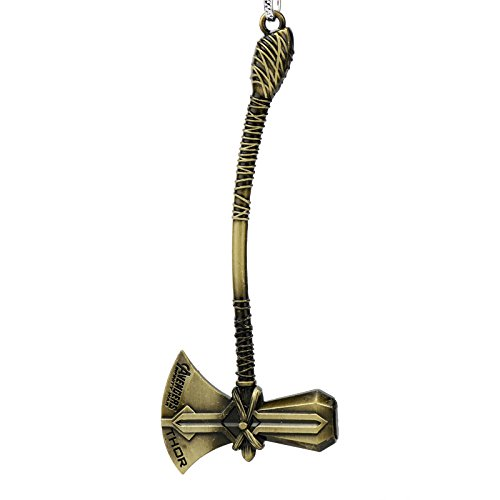THOR Hammer: (131, 38, 367, 458)
